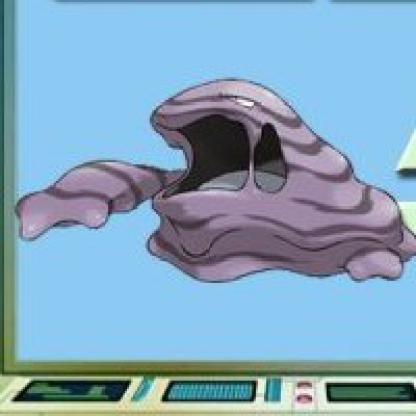Muk: (20, 72, 415, 307)
